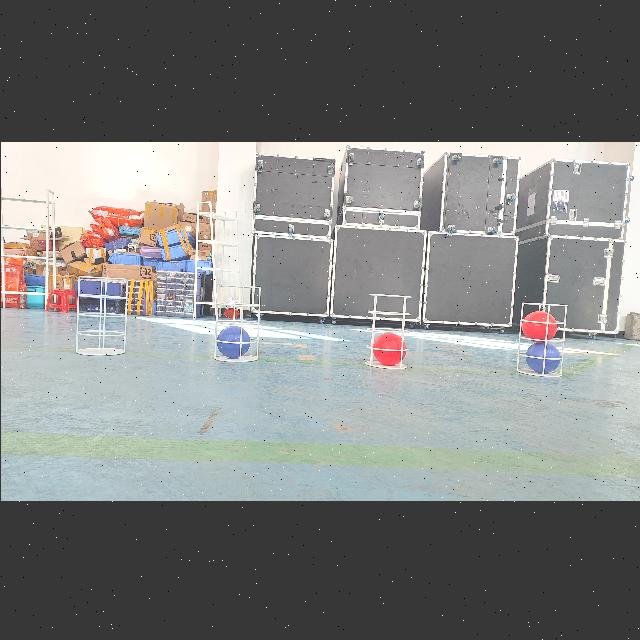B: (522, 340, 560, 372), (214, 324, 248, 358)
R: (371, 331, 407, 363), (522, 309, 556, 341)
S: (70, 272, 130, 358), (206, 280, 262, 362), (514, 300, 570, 378), (362, 291, 413, 369)
